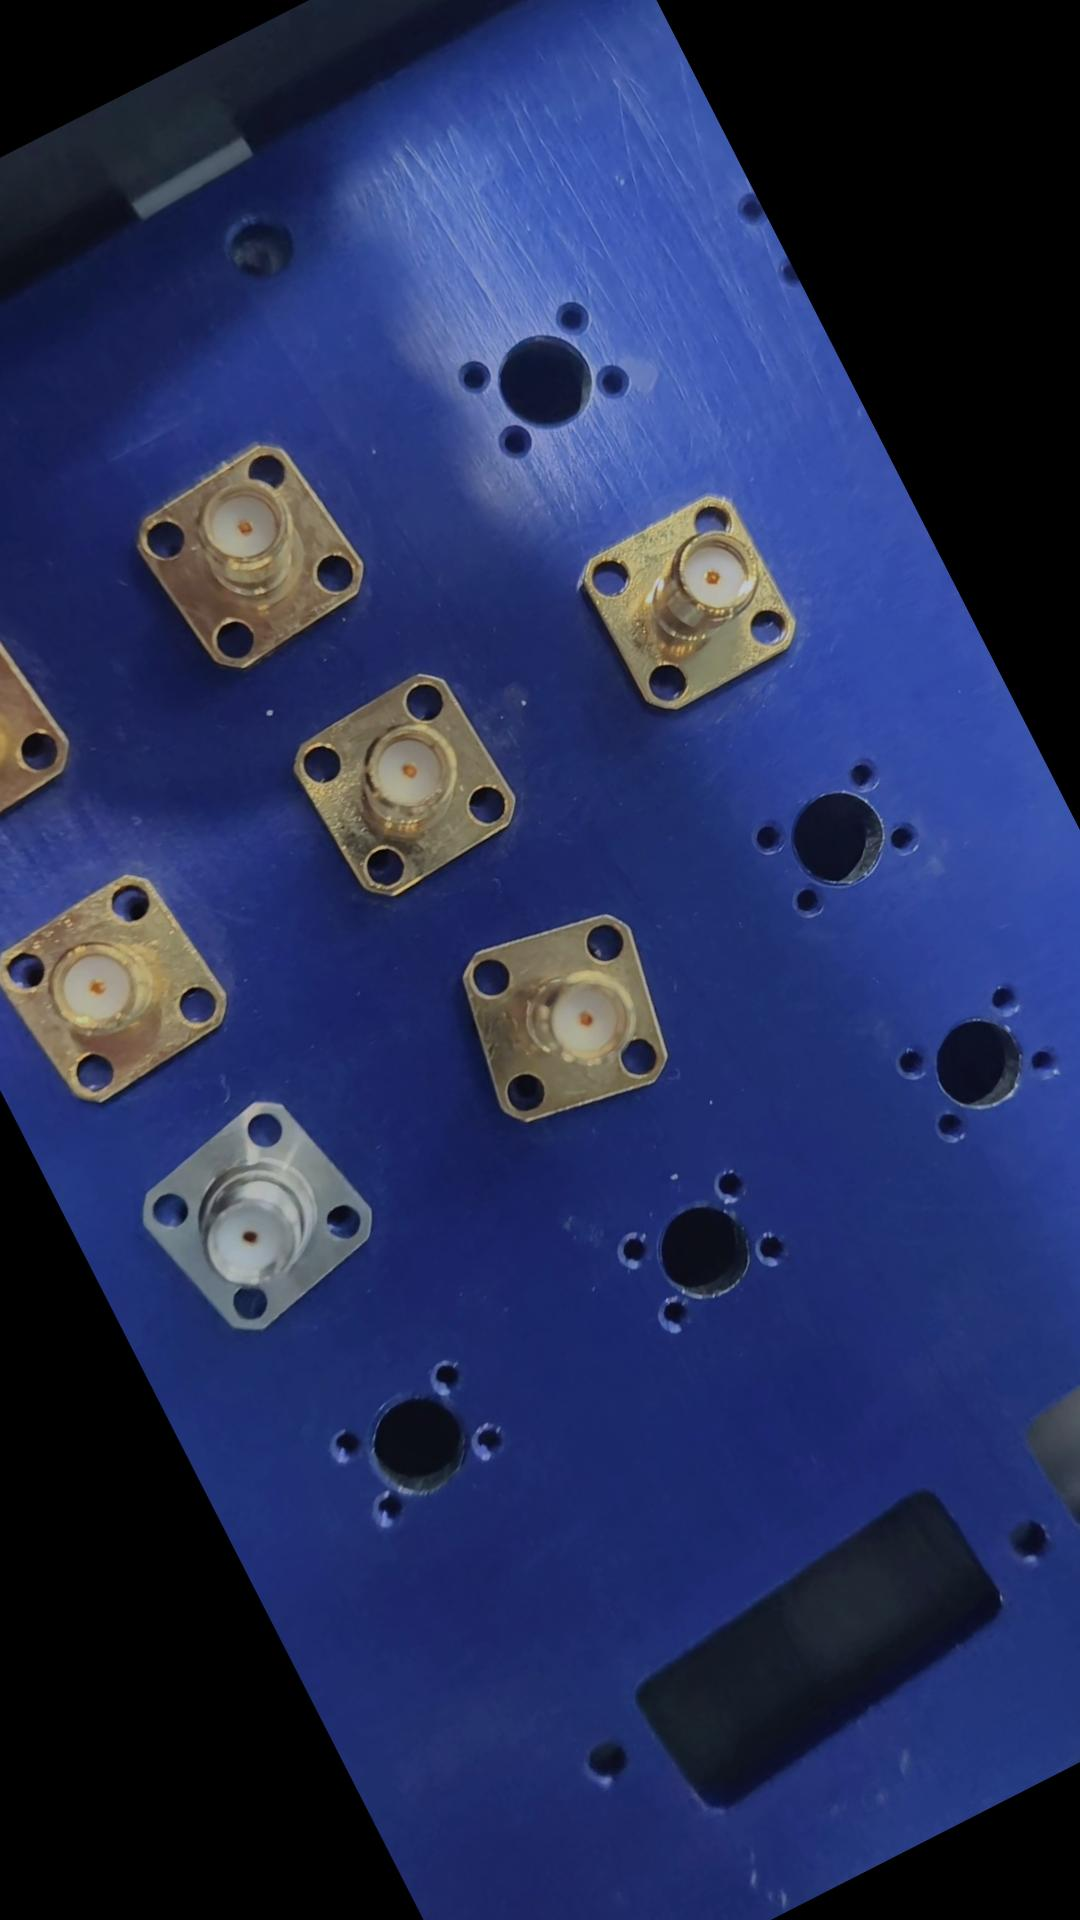SMA: (117, 1062, 419, 1361), (274, 649, 553, 924), (431, 876, 709, 1151), (115, 415, 394, 686), (566, 473, 823, 729)
